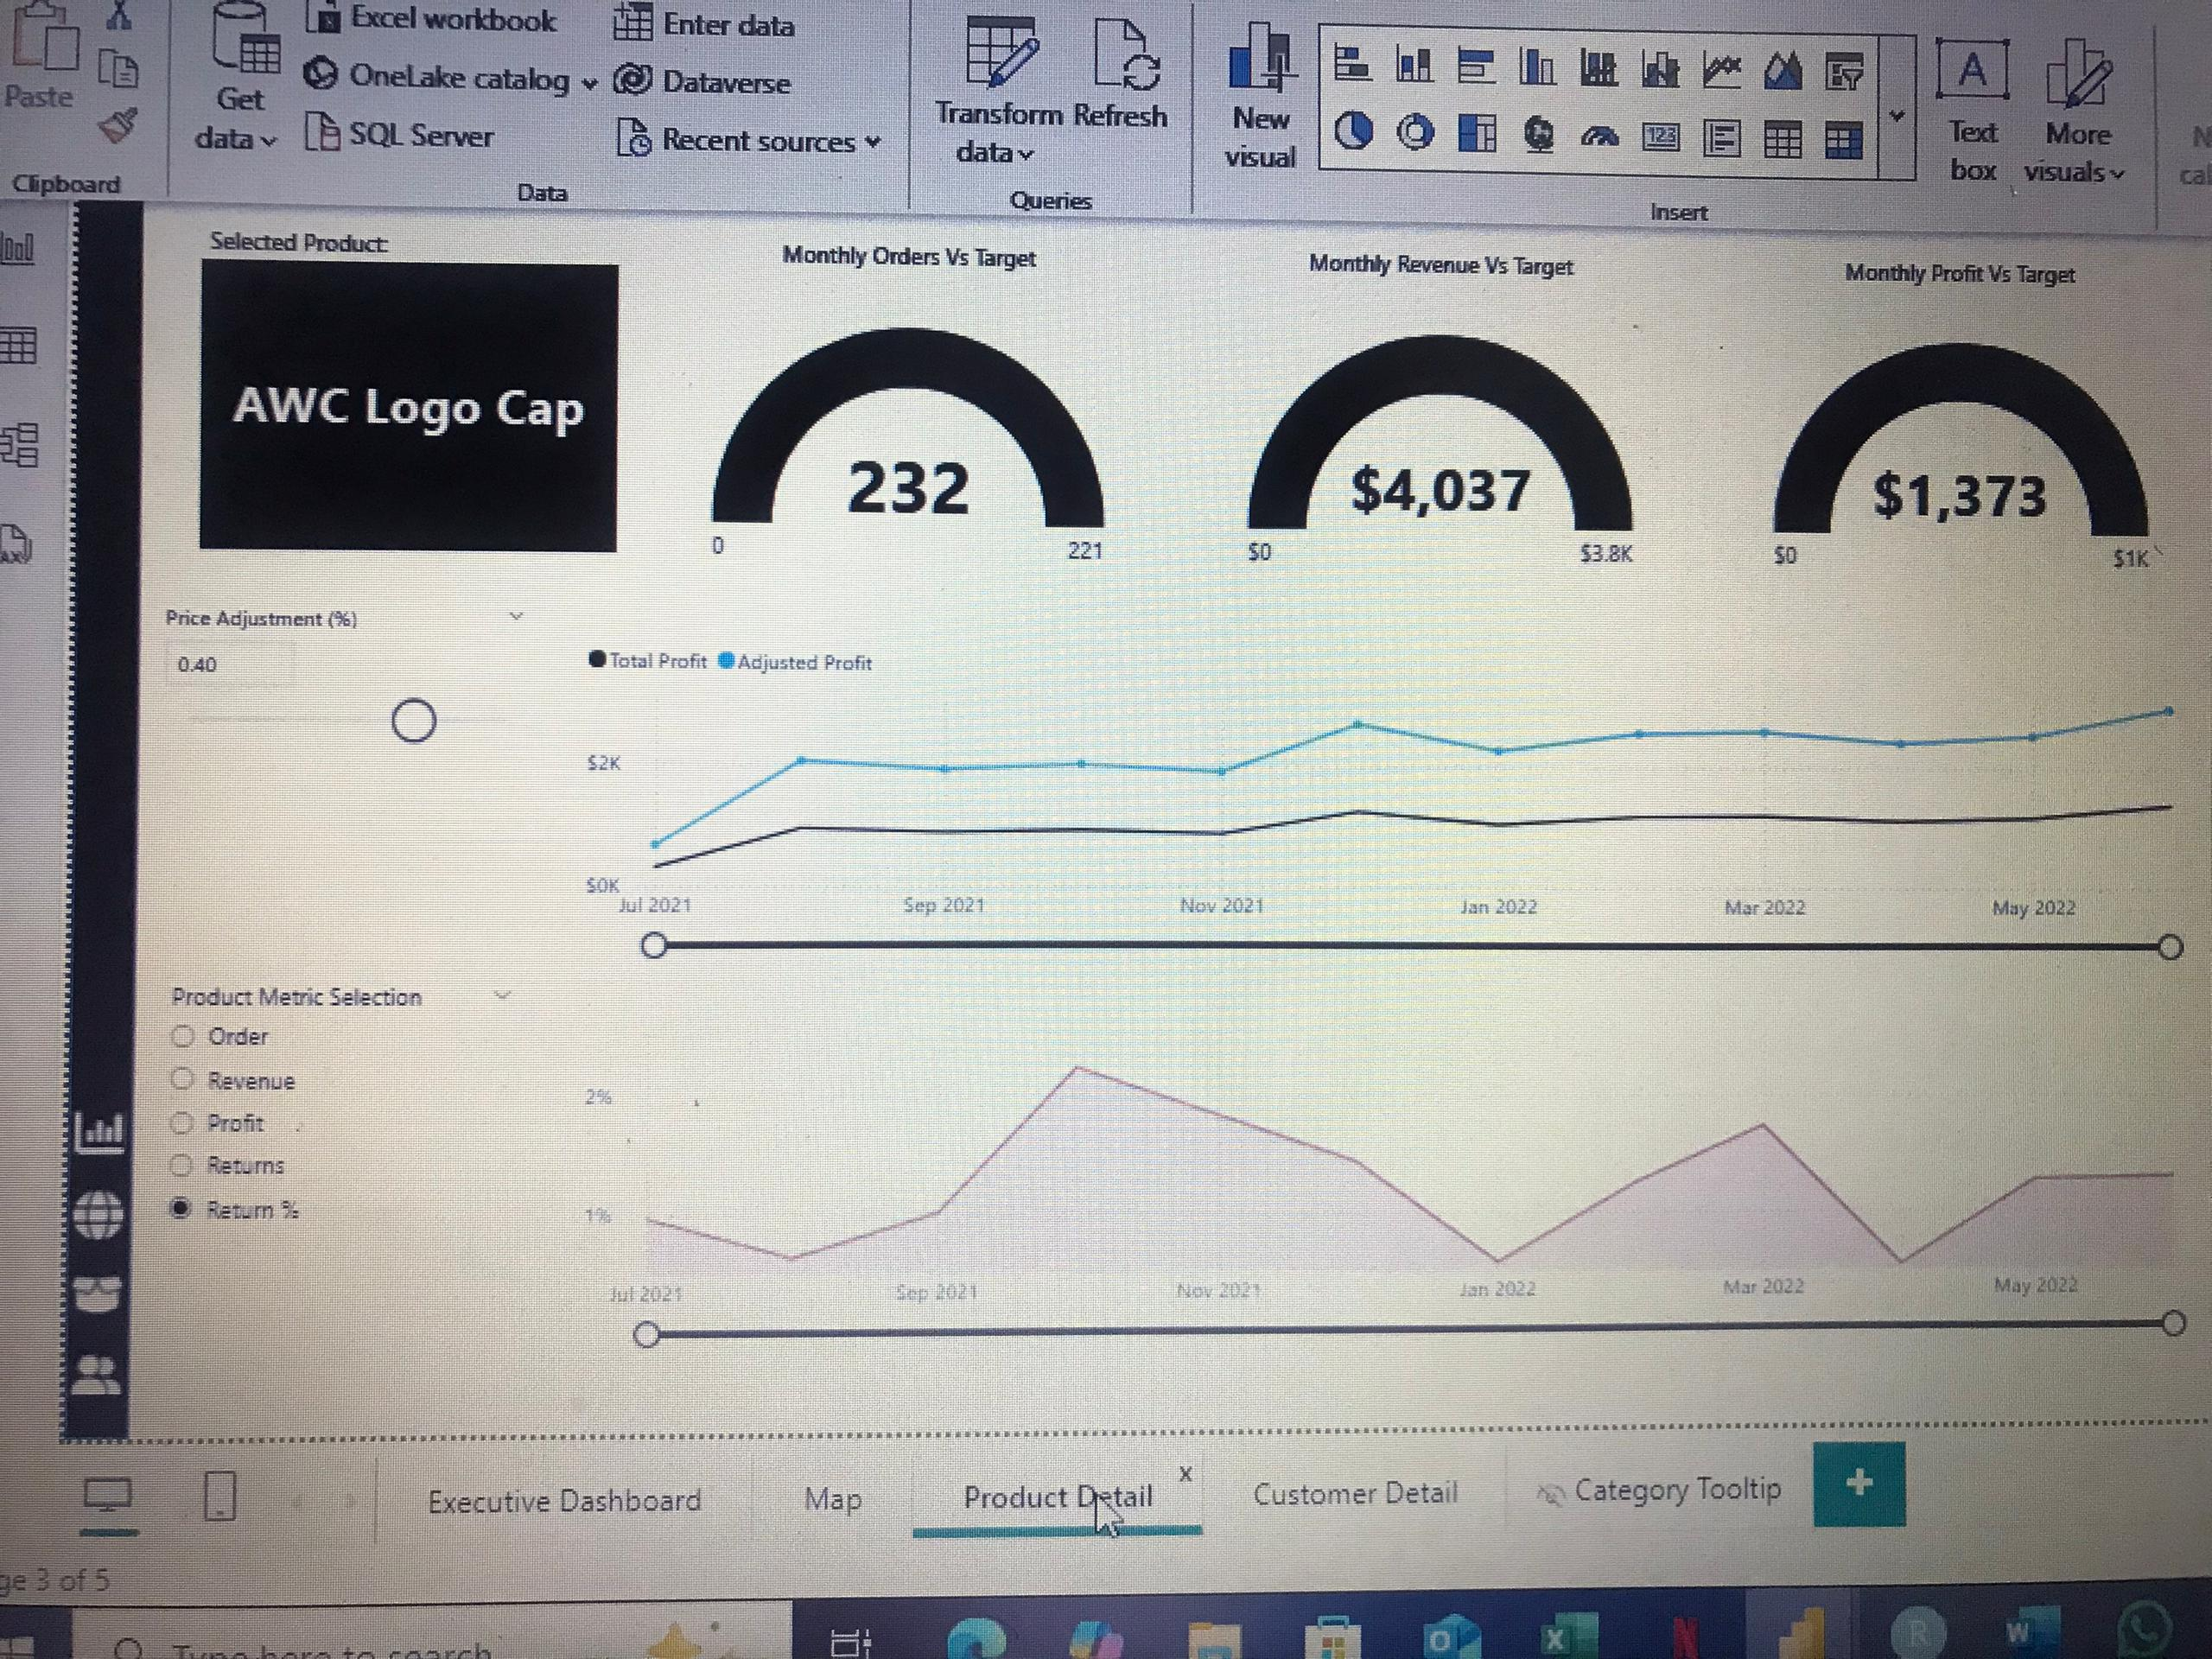

Layout of this report page (visuals, bound fields, positions):
{"tool":"powerbi","page":{"name":"Product Detail","canvas":[1280,720],"ordinal":2},"visuals":[{"type":"shape","box":[0,0,36.7,720],"z":0},{"type":"actionButton","box":[0,524.2,36,38.9],"z":0,"group":"g1"},{"type":"gauge","title":"Monthly Orders Vs Target","fields":{"Y":["Measure Table.Total Order"],"MaxValue":["Measure Table.Order Target"]},"box":[362.9,15.8,241.9,230.4],"z":1000},{"type":"actionButton","box":[0,617.8,36,38.9],"z":1000,"group":"g1"},{"type":"gauge","title":"Monthly Revenue Vs Target","fields":{"Y":["Measure Table.Total Revenue"],"MaxValue":["Measure Table.Revenue Target"]},"box":[681.1,15.8,241.9,230.4],"z":2000},{"type":"actionButton","box":[0,663.9,36,38.9],"z":2000,"group":"g1"},{"type":"gauge","title":"Monthly Profit Vs Target","fields":{"Y":["Measure Table.Total Profit"],"MaxValue":["Measure Table.Profit Target"]},"box":[999.4,15.8,241.9,230.4],"z":3000},{"type":"actionButton","box":[0,571,36,38.9],"z":3000,"group":"g1"},{"type":"lineChart","title":" Profit Trending","fields":{"Category":["Calendar Lookup.Date Hierarchy.Start of Year","Calendar Lookup.Date Hierarchy.Start of Month","Calendar Lookup.Date Hierarchy.Start of Week","Calendar Lookup.Date Hierarchy.Date"],"Y":["Measure Table.Total Profit","Measure Table.Adjusted Profit"]},"box":[290.9,246.2,989.3,198.7],"z":4000},{"type":"areaChart","title":"Returns Trending","fields":{"Y":["Measure Table.Return Rate"],"Category":["Calendar Lookup.Date Hierarchy.Start of Year","Calendar Lookup.Date Hierarchy.Start of Month","Calendar Lookup.Date Hierarchy.Start of Week","Calendar Lookup.Date Hierarchy.Date"]},"box":[290.9,473.8,989.3,198.7],"z":5000},{"type":"card","fields":{"Values":["Min(Product Lookup.ProductName)"]},"box":[70.6,33.1,241.9,169.9],"z":6000},{"type":"textbox","box":[70.6,8.6,169.9,31.7],"z":7000},{"type":"group","id":"g1","title":"Navigation Buttons","box":[0,524.2,36,178.6],"z":8000},{"type":"slicer","fields":{"Values":["Price Adjustment (%).Price Adjustment (%)"]},"box":[38.9,229,233.3,131],"z":9000},{"type":"slicer","fields":{"Values":["Product Metric Selection.Product Metric Selection"]},"box":[44.6,450.7,221.8,155.5],"z":10000}]}

Visuals, with their boxes on the page's 1280x720 design canvas (x1, y1, x2, y2). These are canvas units, not pixel positions in the 2212x1659 screenshot, which may show the page scaled, cropped or inside an application window:
shape: [0,0,37,720]
actionButton: [0,524,36,563]
"Monthly Orders Vs Target" gauge: [363,16,605,246]
actionButton: [0,618,36,657]
"Monthly Revenue Vs Target" gauge: [681,16,923,246]
actionButton: [0,664,36,703]
"Monthly Profit Vs Target" gauge: [999,16,1241,246]
actionButton: [0,571,36,610]
" Profit Trending" lineChart: [291,246,1280,445]
"Returns Trending" areaChart: [291,474,1280,672]
card - Min(Product Lookup.ProductName): [71,33,312,203]
textbox: [71,9,240,40]
"Navigation Buttons" group: [0,524,36,703]
slicer - Price Adjustment (%).Price Adjustment (%): [39,229,272,360]
slicer - Product Metric Selection.Product Metric Selection: [45,451,266,606]
